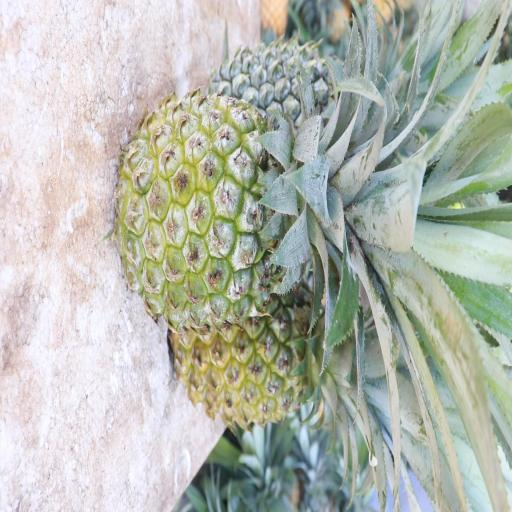------------------------------: (112, 85, 414, 337)
Pineapple - v8 v1: (166, 234, 402, 432)
